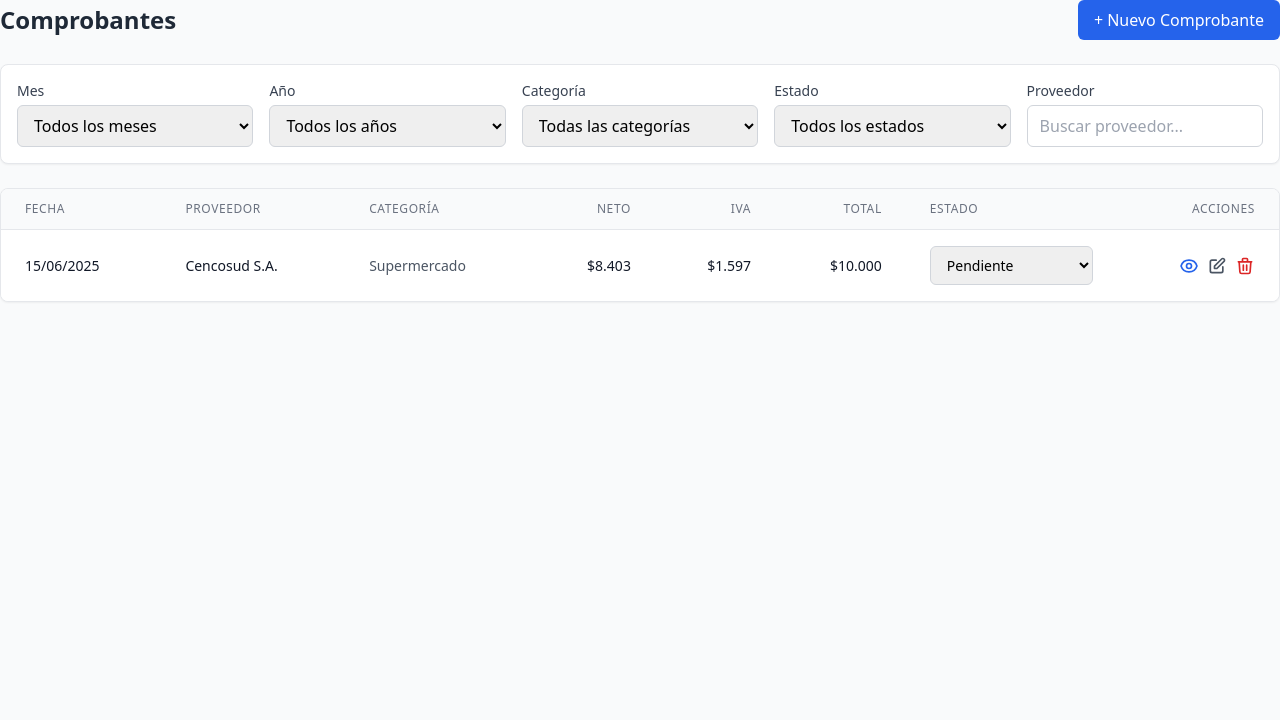
Test case: InvoicesPage › opens delete confirmation modal when delete is clicked
The width and height of the screenshot is (1280, 720).
What coordinates should you click on to do the following:
click the button titled "Eliminar"
I would click on:
 (1245, 266)
Its box is [1235,256,1255,276].
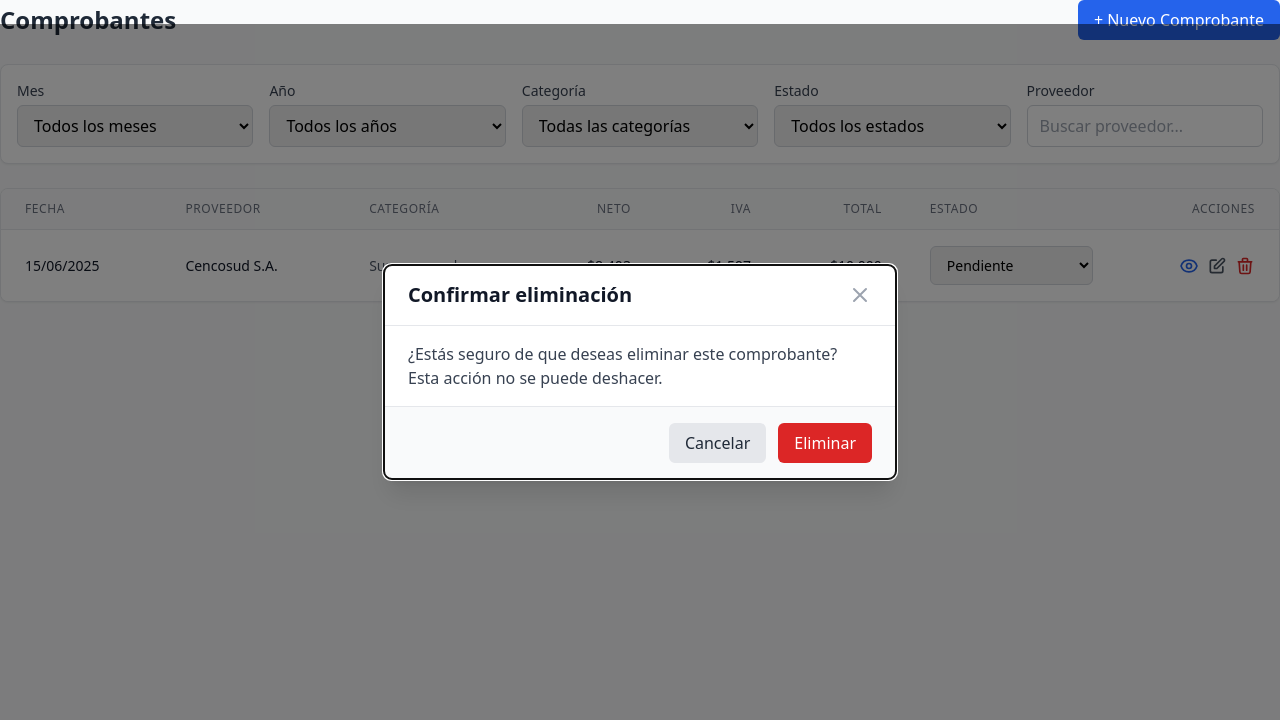
Now the heading "Confirmar eliminación" is shown, box [408,281,632,309]
Now the text "¿Estás seguro de que deseas eliminar este comprobante" is shown, box [408,343,837,389]
